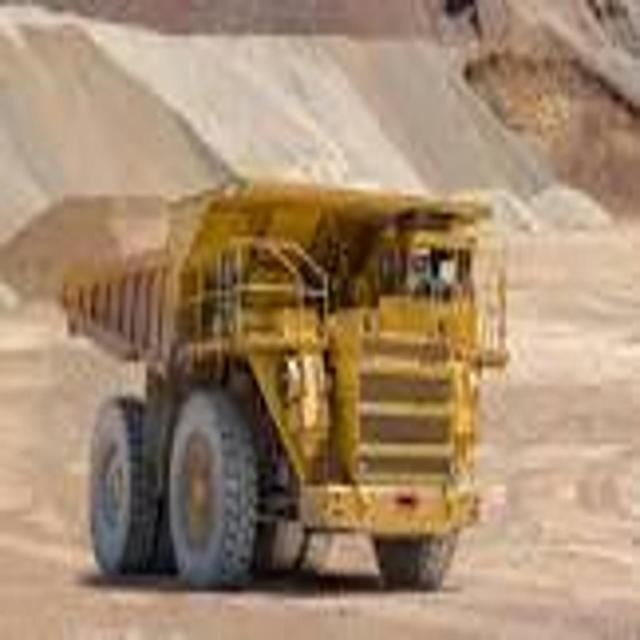dump_truck: (56, 161, 515, 613)
